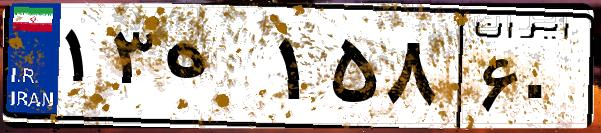0: (525, 38, 570, 115)
1: (270, 28, 330, 110), (57, 26, 110, 100)
3: (110, 28, 158, 98)
5: (330, 28, 385, 110)
6: (475, 38, 525, 113)
8: (385, 28, 445, 110)
ه: (158, 20, 270, 120)
